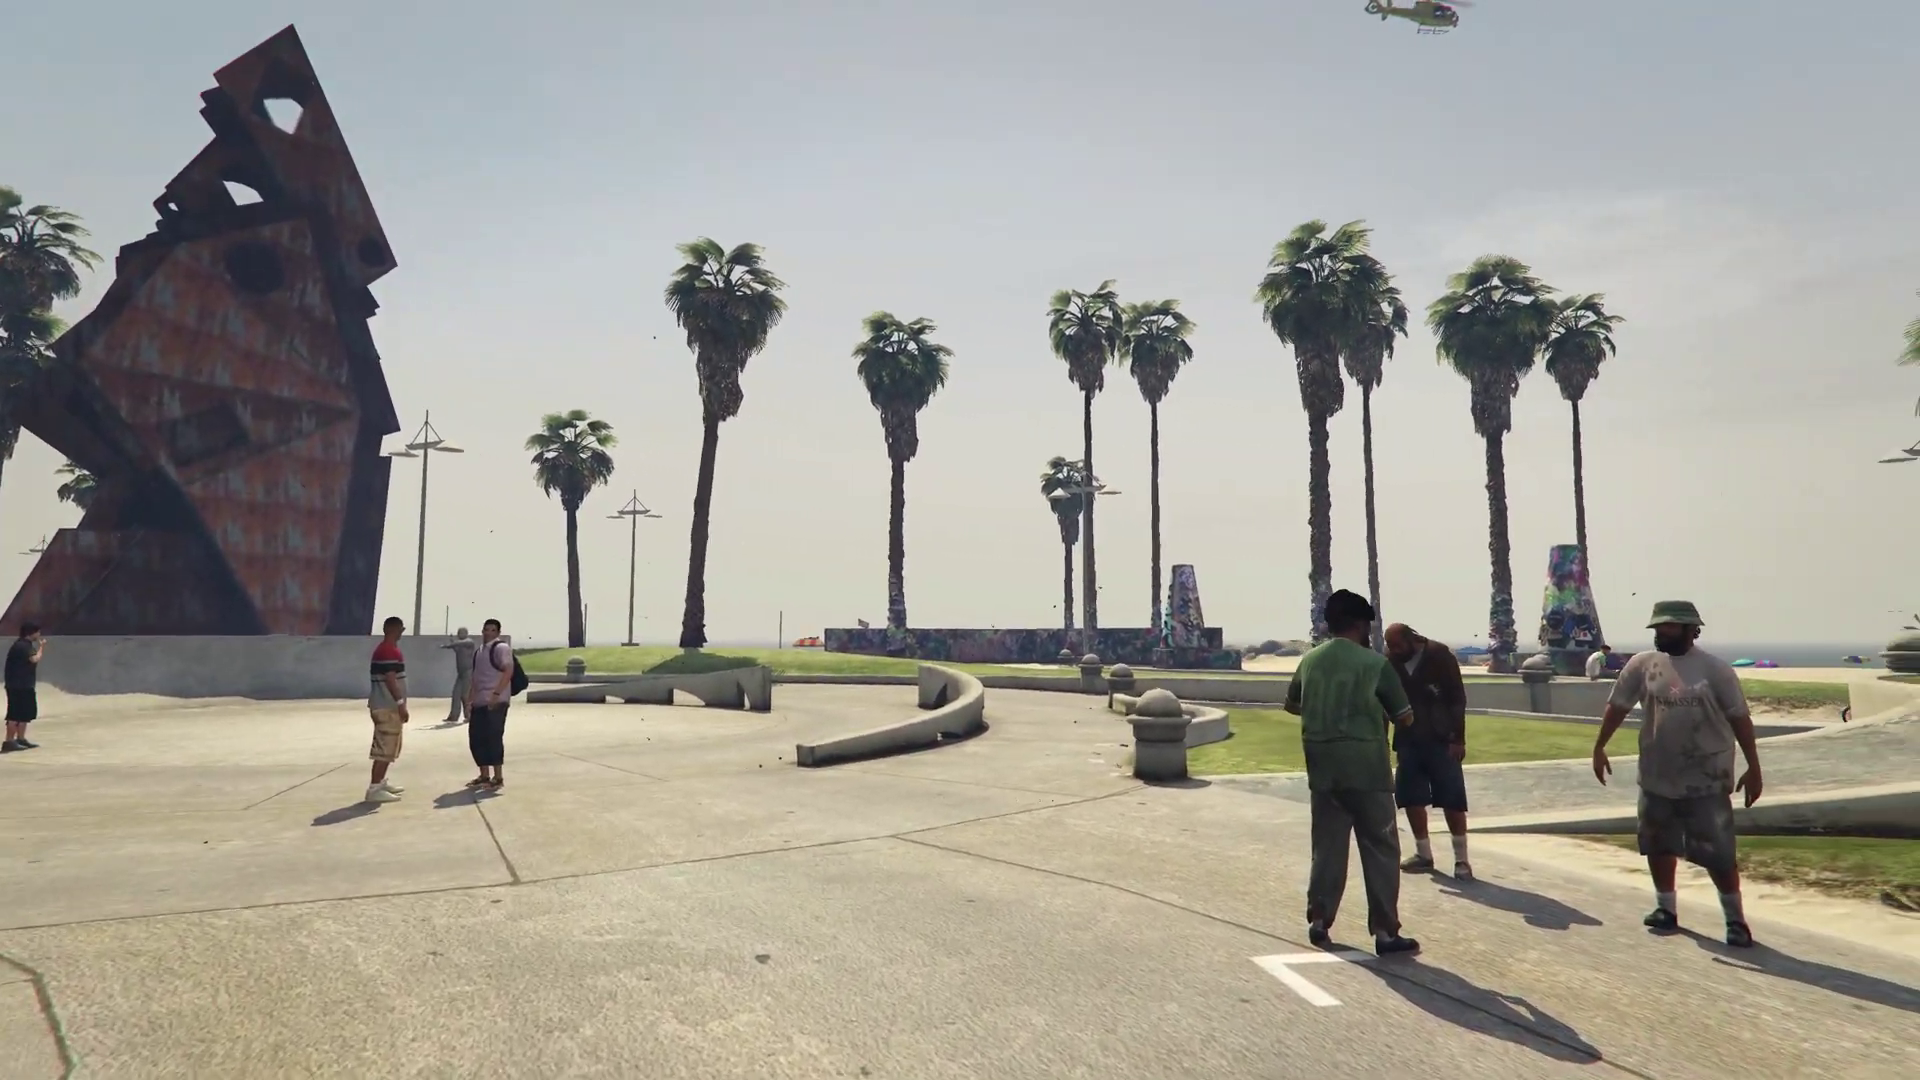person: (1591, 599, 1763, 948), (1290, 591, 1419, 958), (1380, 623, 1477, 883), (469, 620, 512, 794), (367, 616, 403, 803), (1, 622, 50, 758), (443, 628, 479, 723), (1584, 644, 1624, 686)
